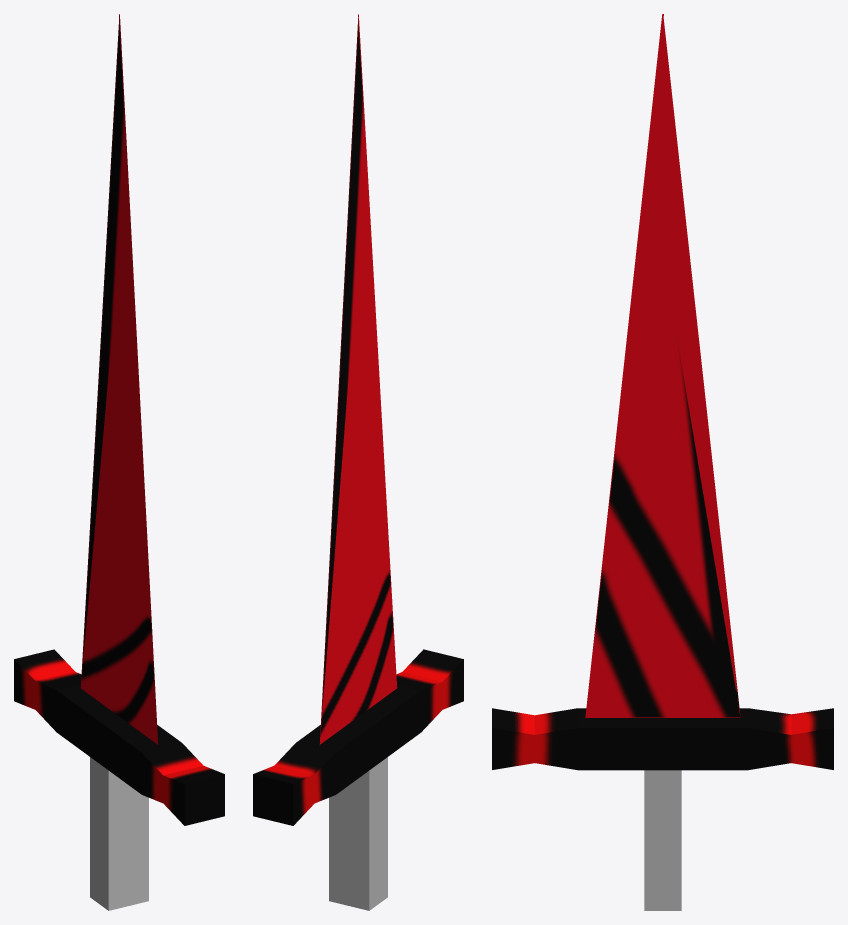
Rendered from shamshirenemy4.fbx.
3 renders of one model, left to right at view 1: azimuth 30°, elevation 25°; view 2: azimuth 150°, elevation 25°; view 3: azimuth 270°, elevation 25°, orthographic.
Parts seen in each view (by area): view 1: Cube, Cube.001, Cube.002; view 2: Cube, Cube.001, Cube.002; view 3: Cube, Cube.001, Cube.002.
Boxes of the visible parts, x1,y1,x2,y2 form: Cube: [80, 14, 158, 744]; Cube.001: [14, 649, 224, 825]; Cube.002: [90, 757, 148, 910]; Cube: [319, 14, 397, 744]; Cube.001: [253, 649, 463, 825]; Cube.002: [329, 757, 387, 910]; Cube: [585, 14, 740, 717]; Cube.001: [492, 708, 833, 770]; Cube.002: [644, 770, 681, 910].
Size of the model in its own units: 60 by 1260 by 440.
